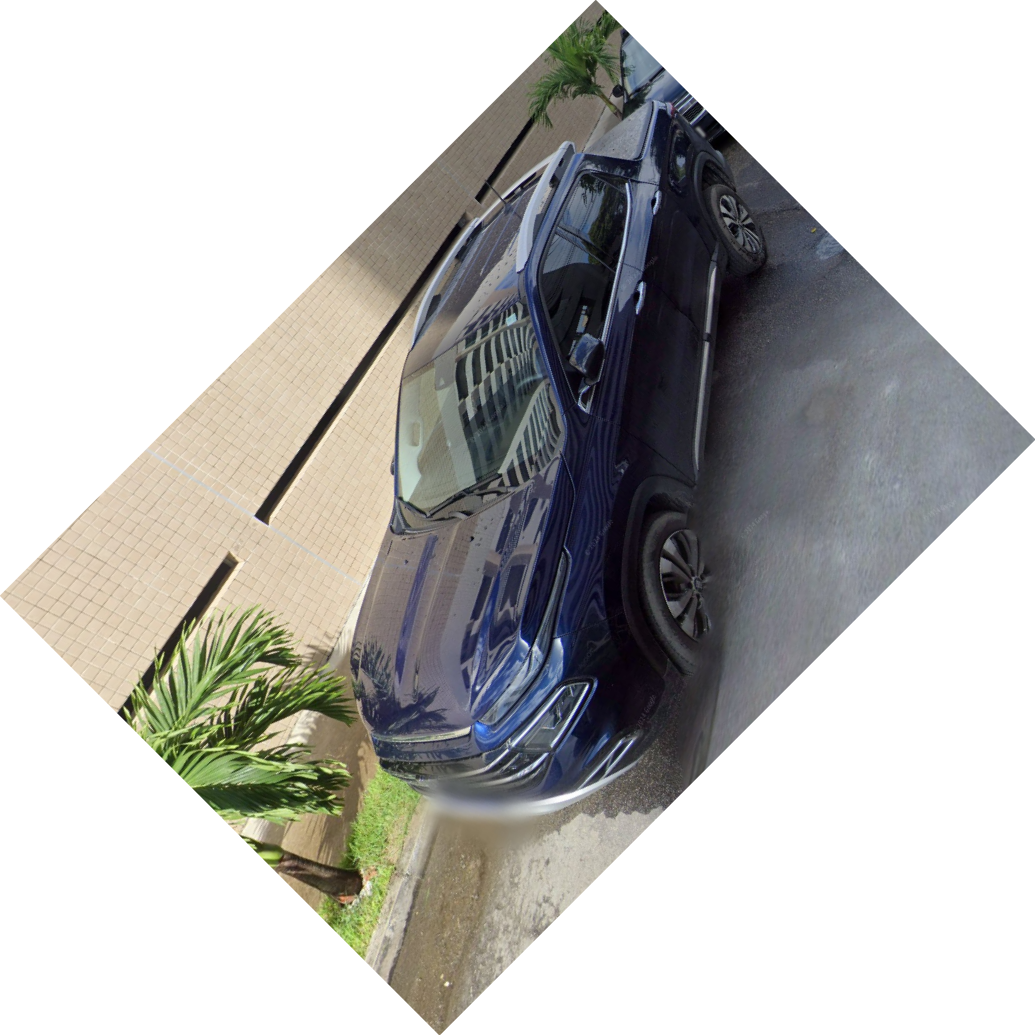car: (351, 90, 765, 829)
